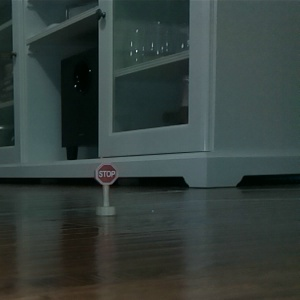stop sign: (92, 160, 119, 218)
